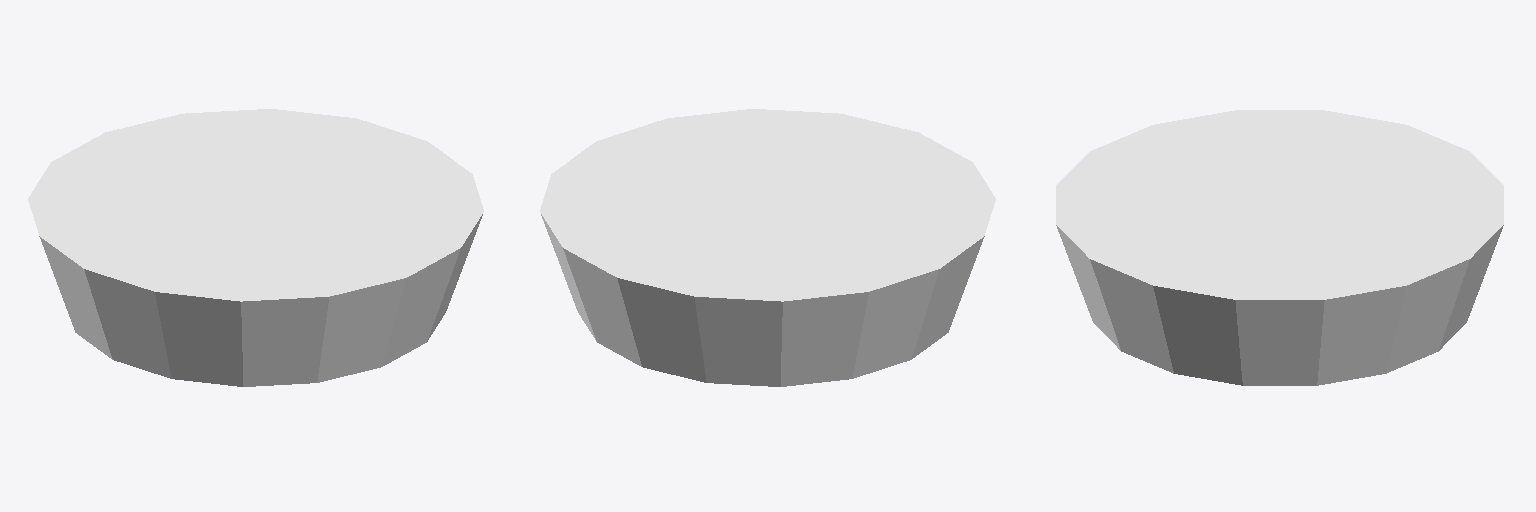
File: Ara_Mount_1_Collider.obj
The picture shows the model from 3 angles: view 1: azimuth 30°, elevation 25°; view 2: azimuth 150°, elevation 25°; view 3: azimuth 270°, elevation 25°; orthographic projection.
Visible parts, largest first — view 1: Ara_Mount_1_Collider; view 2: Ara_Mount_1_Collider; view 3: Ara_Mount_1_Collider.
Boxes of the visible parts, box(x1,y1,x2,y2) form: Ara_Mount_1_Collider: box(28, 109, 483, 386); Ara_Mount_1_Collider: box(540, 109, 995, 386); Ara_Mount_1_Collider: box(1056, 110, 1503, 385).
Size of the model in its own units: 0.75 by 0.1875 by 0.75.